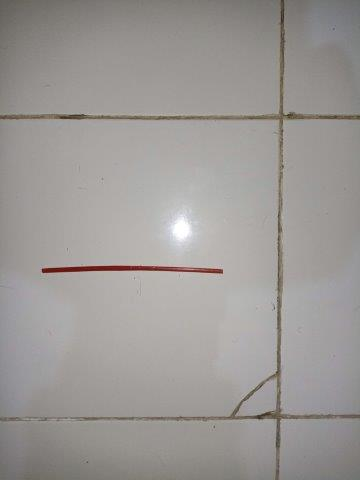sedotan: (42, 265, 222, 274)
